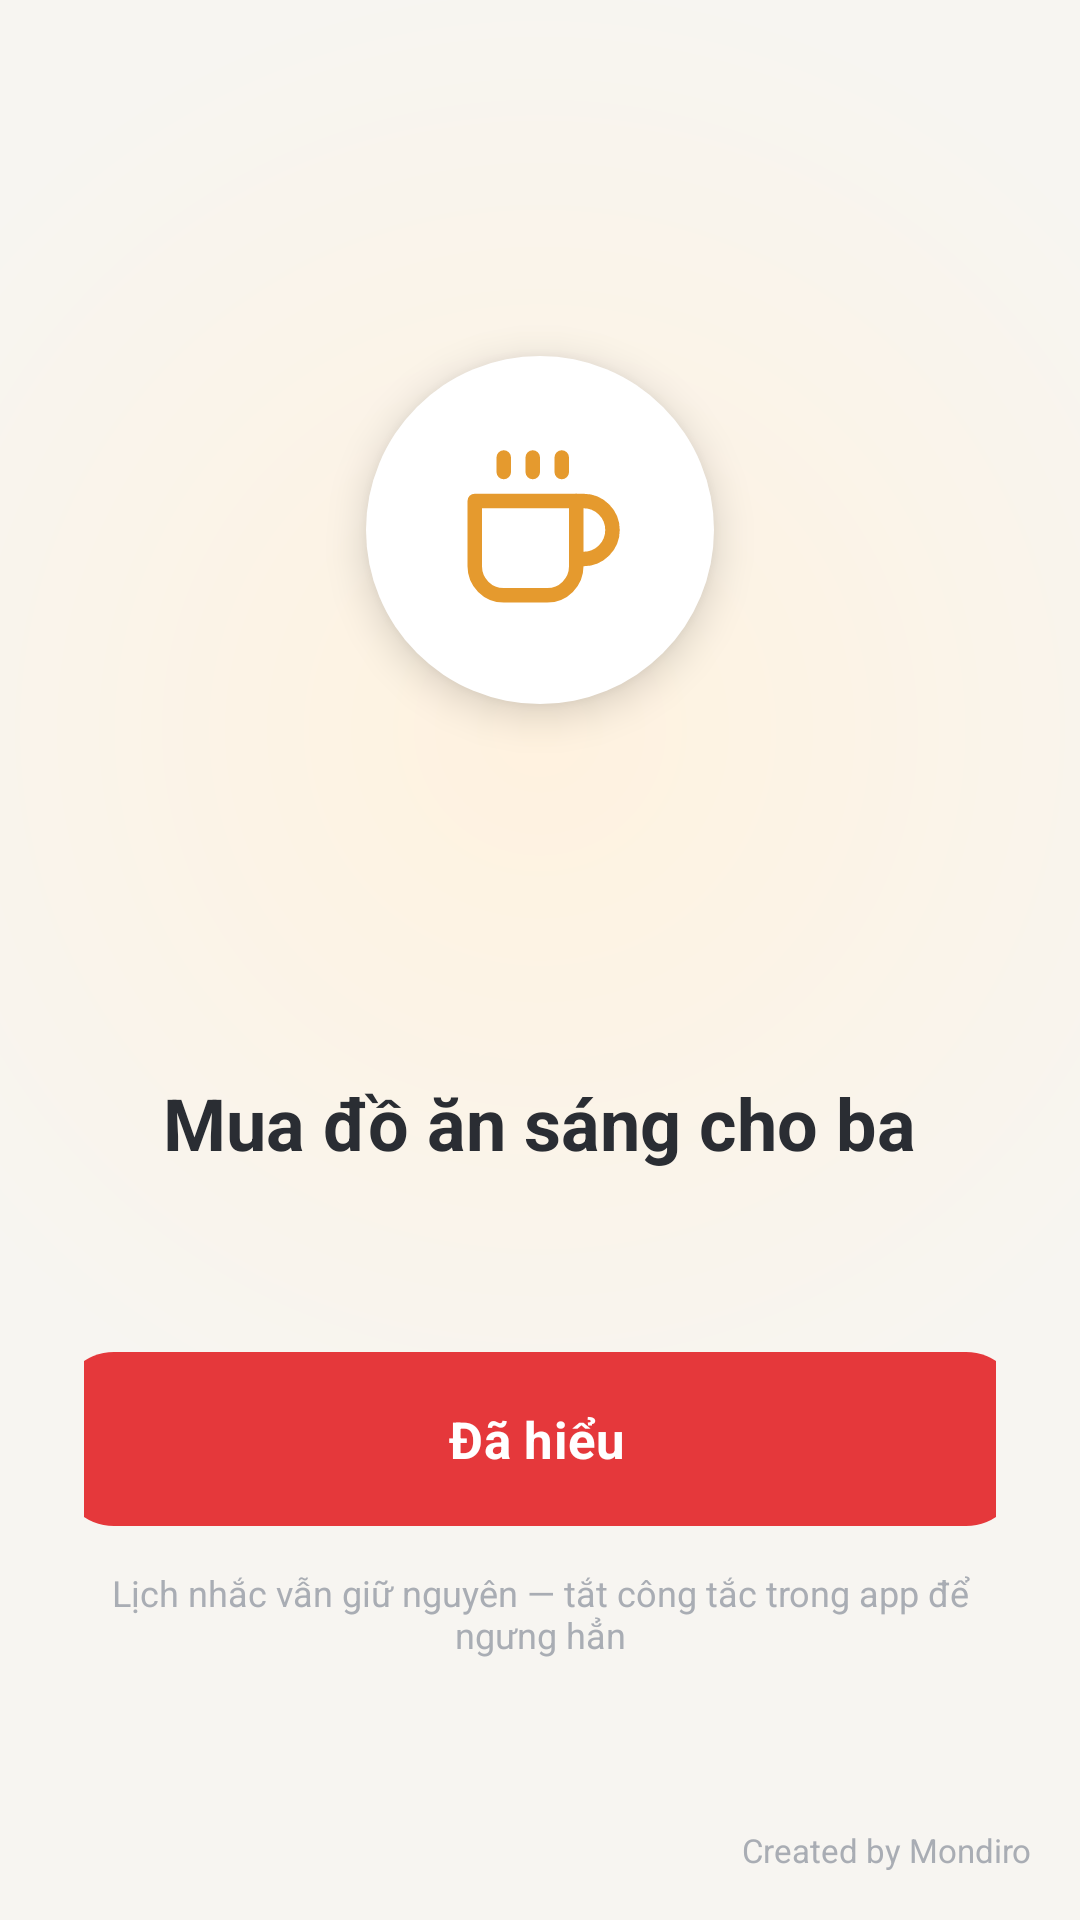

Icon bounding boxes for this 1080*1920 phone screenshot, format (x1, y1, x2, y2):
cup: (467, 450, 620, 603)
